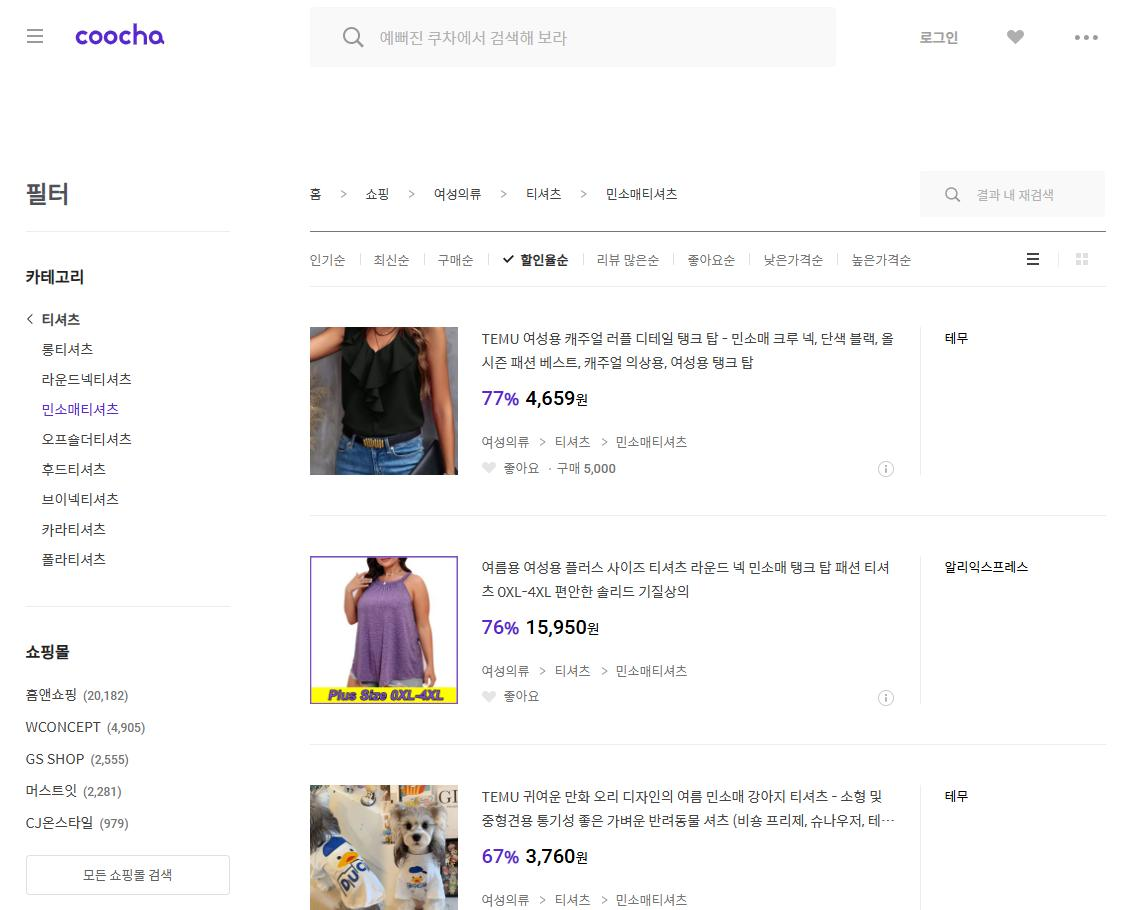button: (26, 853, 230, 896), (20, 715, 153, 743), (21, 779, 153, 807), (20, 811, 152, 839), (20, 748, 153, 773), (20, 682, 134, 711), (496, 238, 577, 276), (592, 240, 665, 277), (755, 241, 828, 278), (844, 240, 917, 277), (680, 242, 744, 279), (38, 367, 133, 391), (39, 428, 134, 452), (37, 458, 132, 482), (35, 487, 130, 511), (36, 518, 131, 542), (34, 550, 129, 574), (39, 399, 133, 423), (915, 22, 967, 57), (991, 19, 1043, 54), (1060, 19, 1112, 54), (11, 18, 56, 57), (371, 240, 416, 277), (309, 243, 353, 280), (432, 242, 476, 279), (40, 336, 99, 360)
input_field: (306, 4, 847, 70), (919, 171, 1105, 216)
